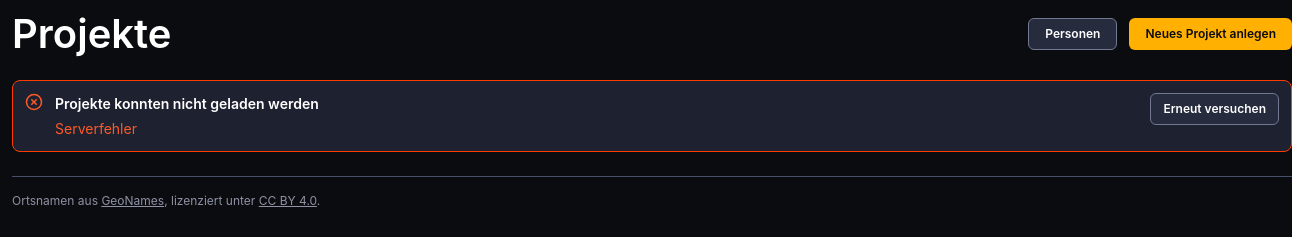
ProjectListPage › der Fehlerzustand › laesst die Liste erneut laden
Check: the message "Projekte konnten nicht geladen werden Serverfehler Erneut versuchen" is shown, box [12,80,1291,152]
Click the button "Erneut versuchen" at (1215, 109), box [1150,93,1279,125]
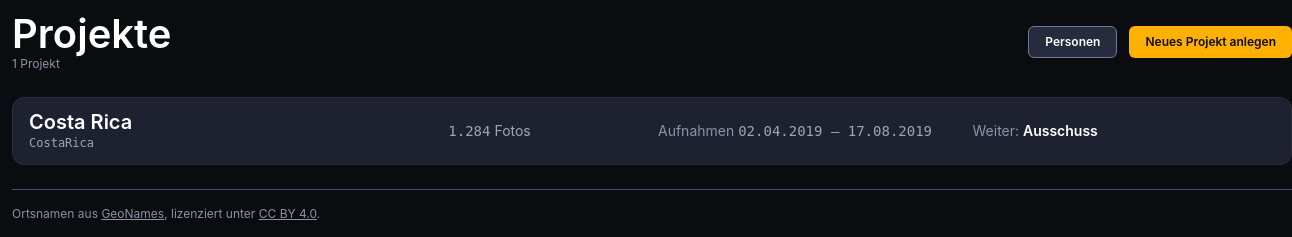
Check: the text "Costa Rica" is shown, box [29,110,132,134]
